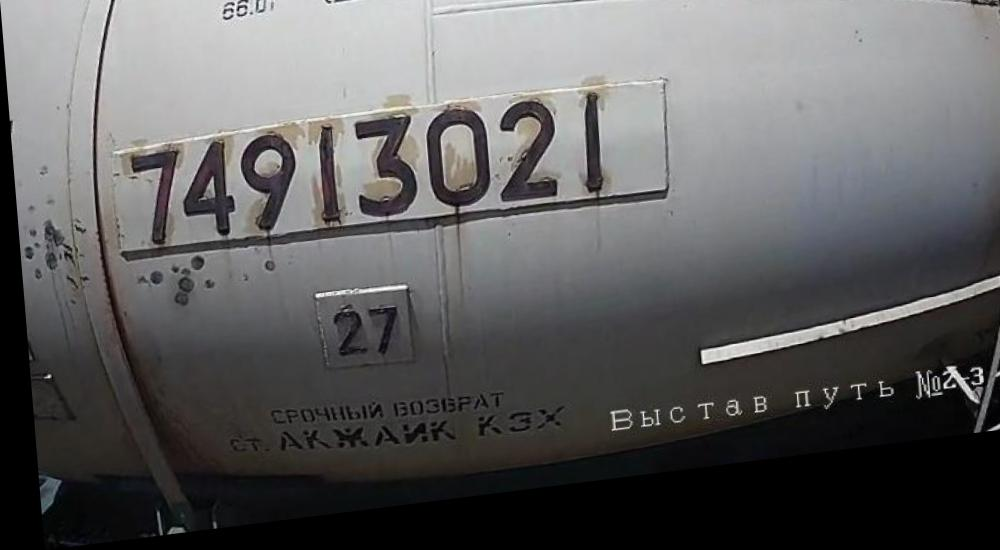Wagon-number: (118, 100, 612, 262)
